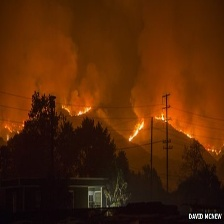fire: (62, 103, 101, 118), (1, 121, 27, 138), (127, 119, 143, 141), (178, 127, 195, 140), (155, 113, 172, 125)
smoke: (2, 1, 222, 114)
